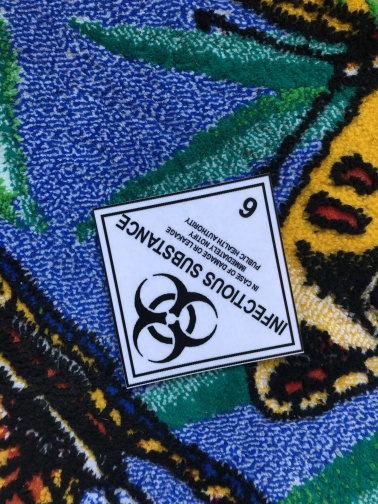InfectiousSubstance: (92, 174, 303, 388)
